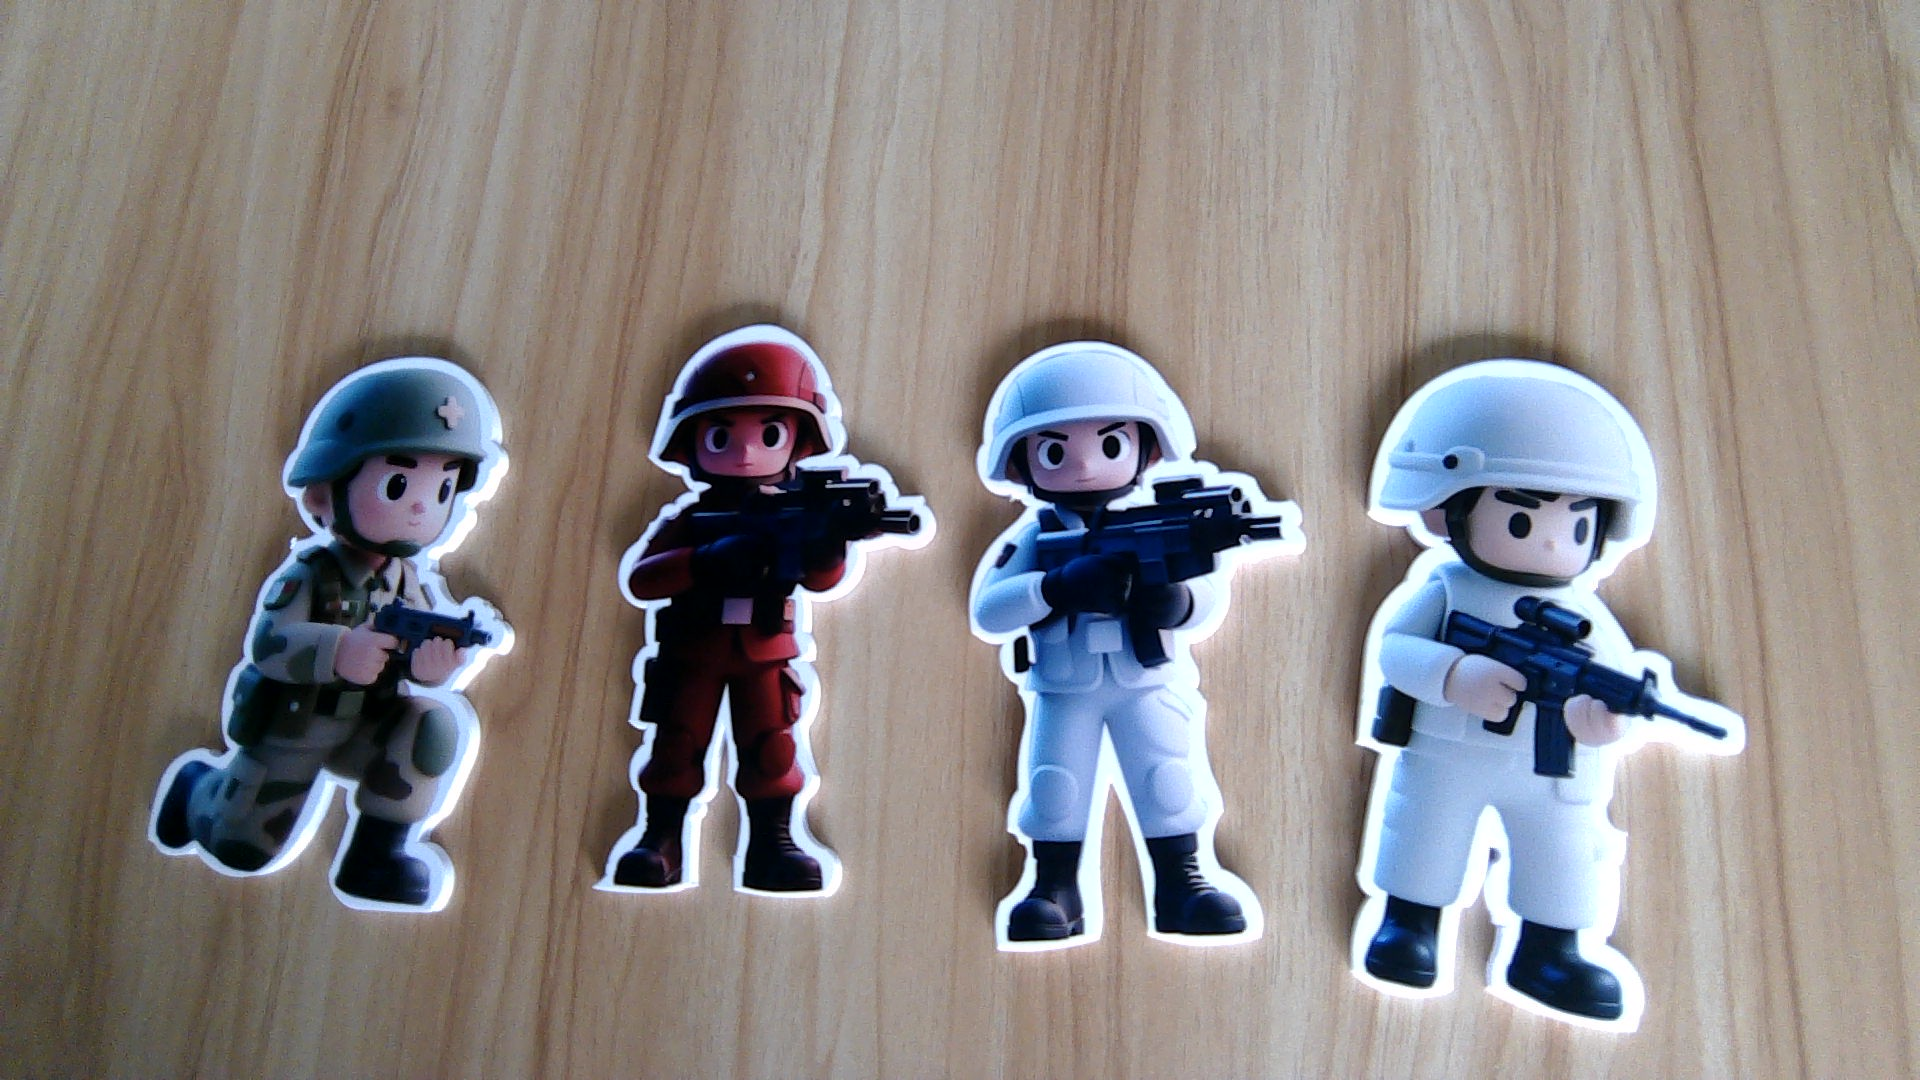人质: (1336, 584, 1778, 1042), (959, 495, 1309, 963)
友军: (146, 555, 516, 918)
敌人1: (589, 489, 938, 909)
